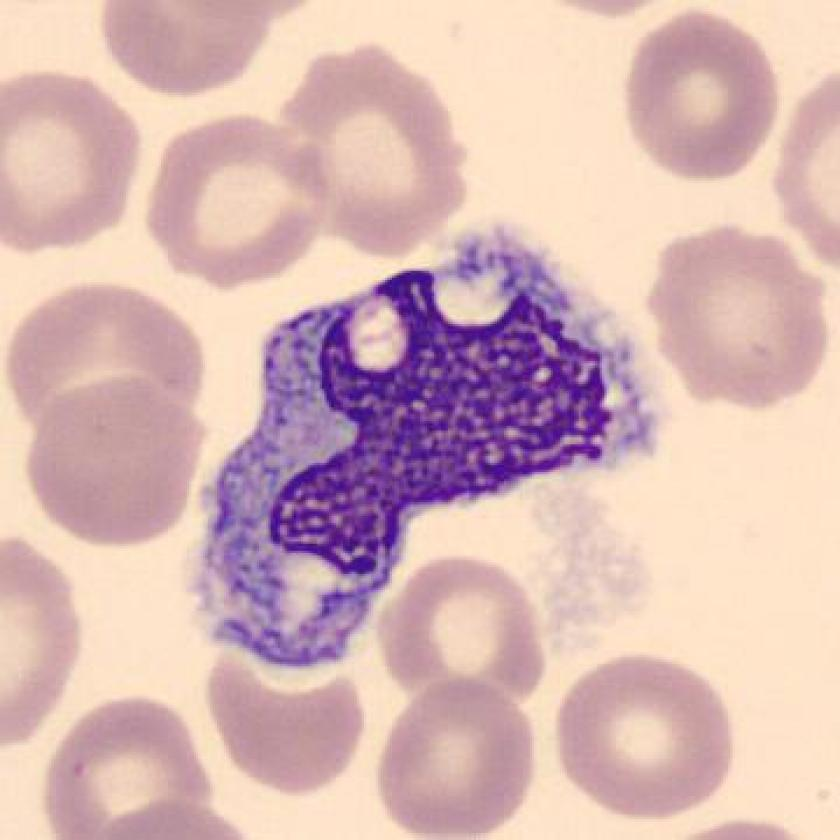monocyte: (179, 202, 690, 686)
